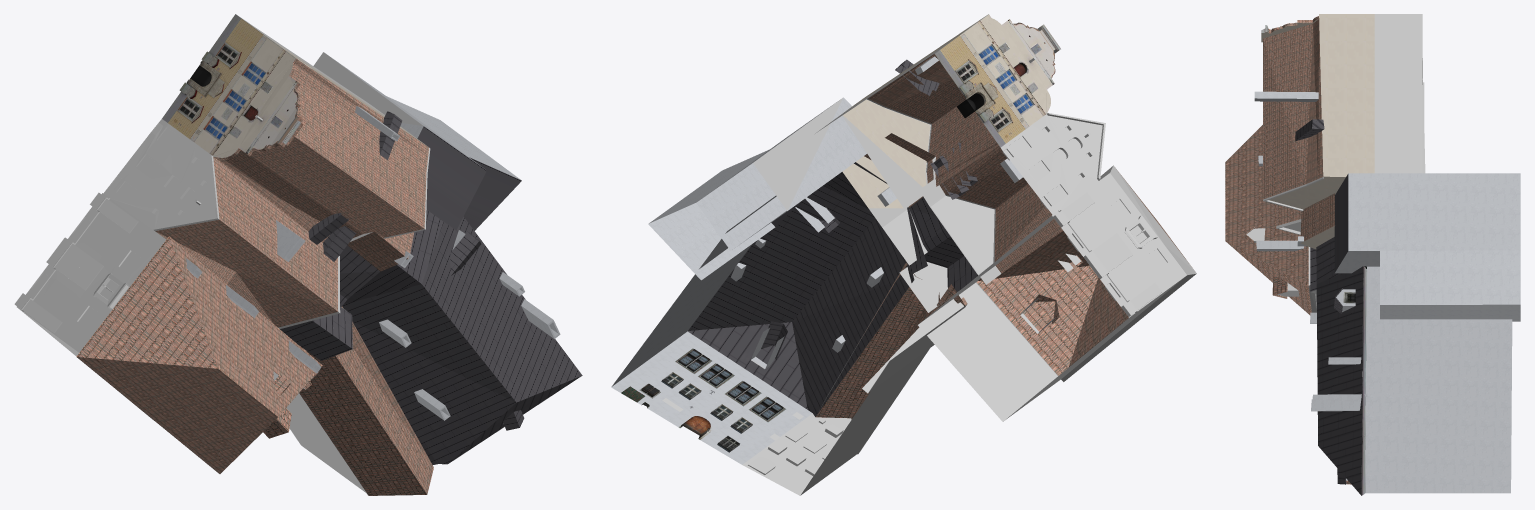
File: Pikk_24.obj
3 renders of one model, left to right at view 1: azimuth 30°, elevation 25°; view 2: azimuth 150°, elevation 25°; view 3: azimuth 270°, elevation 25°, orthographic. The views are drawn at different scales.
Visible parts, largest first — view 1: Pikk_24; view 2: Pikk_24; view 3: Pikk_24.
Part boxes in pixels (x1,y1,x2,y2): Pikk_24: [14, 14, 582, 495]; Pikk_24: [611, 14, 1196, 495]; Pikk_24: [1225, 14, 1520, 495].
Bounding box in the file's own units: 55.12 × 48.12 × 30.66.
